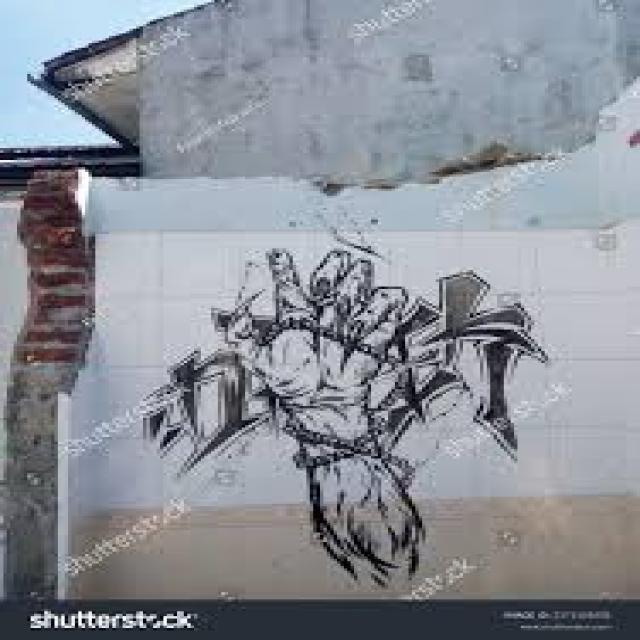-: (143, 249, 548, 588)
